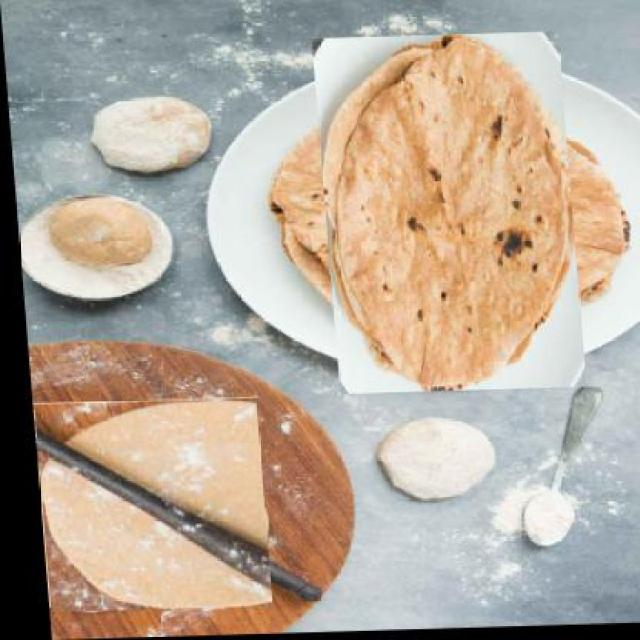chapati: (285, 61, 606, 372), (25, 398, 264, 614)
